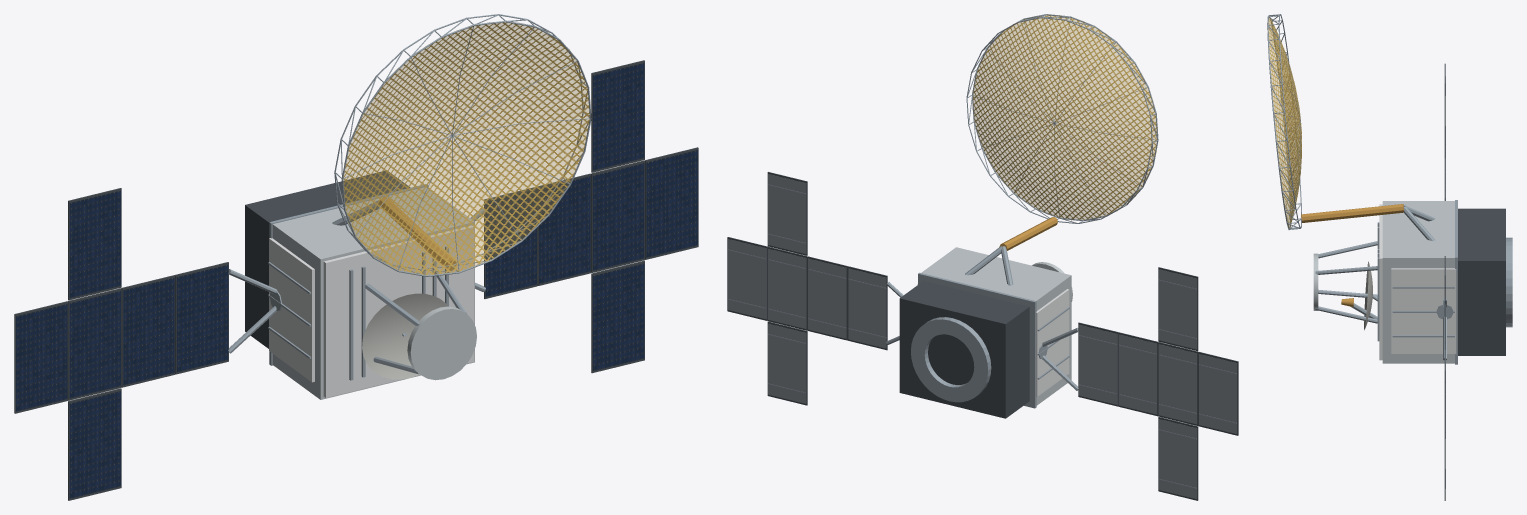
File: ssl-1300-radio-mesh.glb
The picture shows the model from 3 angles, left to right: view 1: azimuth 30°, elevation 25°; view 2: azimuth 150°, elevation 25°; view 3: azimuth 270°, elevation 25°; orthographic projection. The views are drawn at different scales.
Parts seen in each view (by area): view 1: Solar cell panel (×12), Deployable mesh reflector, Earth-facing deck, Payload module, Service module, Radiator face, Antenna tower platform, Deck-mounted reflector, Reflector deployment boom, Solar panel frame; view 2: Rear array substrate (×12), Deployable mesh reflector, Service module, Payload module, Launch adapter ring, Radiator face, Module interface, Reflector deployment boom; view 3: Service module, Payload module, Radiator face, Deployable mesh reflector, Reflector deployment boom, Antenna tower leg (×3), Launch adapter ring, Earth-facing deck, Module interface, Deck-mounted reflector, Antenna tower platform.
Boxes of the visible parts, <box> form: Solar cell panel (×12): <box>16,63,697,498</box>; Deployable mesh reflector: <box>342,22,589,275</box>; Earth-facing deck: <box>323,225,474,397</box>; Payload module: <box>272,187,474,399</box>; Service module: <box>245,171,410,348</box>; Radiator face: <box>269,238,314,382</box>; Antenna tower platform: <box>407,306,476,380</box>; Deck-mounted reflector: <box>362,293,448,379</box>; Reflector deployment boom: <box>378,197,456,270</box>; Solar panel frame: <box>121,275,175,387</box>; Rear array substrate (×12): <box>728,174,1237,499</box>; Deployable mesh reflector: <box>972,15,1157,220</box>; Service module: <box>899,281,1029,418</box>; Payload module: <box>921,247,1071,405</box>; Launch adapter ring: <box>911,317,991,402</box>; Radiator face: <box>1036,289,1069,396</box>; Module interface: <box>918,272,1036,408</box>; Reflector deployment boom: <box>999,217,1057,250</box>; Service module: <box>1458,208,1505,355</box>; Payload module: <box>1382,201,1454,363</box>; Radiator face: <box>1391,268,1456,353</box>; Deployable mesh reflector: <box>1268,17,1301,228</box>; Reflector deployment boom: <box>1301,204,1403,222</box>; Antenna tower leg (×3): <box>1315,241,1378,323</box>; Launch adapter ring: <box>1506,237,1512,327</box>; Earth-facing deck: <box>1379,204,1382,360</box>; Module interface: <box>1455,200,1457,364</box>; Deck-mounted reflector: <box>1364,261,1372,330</box>; Antenna tower platform: <box>1313,253,1318,310</box>.
Bounding box in the file's own units: 24.78 × 17.09 × 10.23.
9 materials, 2 textured.
